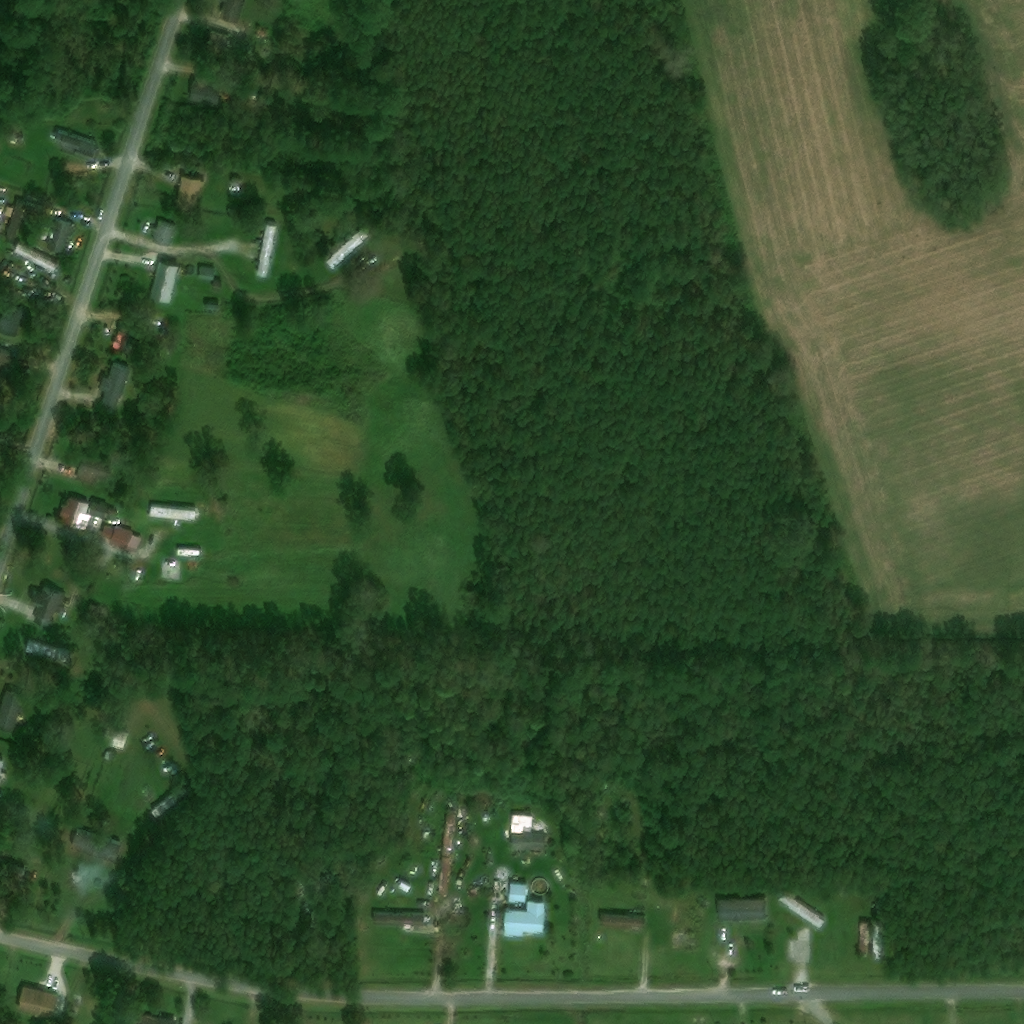no_damage: (58, 499, 119, 532), (324, 227, 370, 270), (776, 890, 826, 929), (99, 362, 132, 411), (52, 129, 100, 161), (500, 901, 545, 935), (27, 587, 65, 625), (13, 243, 57, 274), (14, 985, 55, 1016), (255, 224, 278, 277), (148, 260, 177, 302), (715, 898, 767, 921), (1, 861, 25, 910), (99, 526, 140, 554), (68, 837, 113, 862), (77, 453, 110, 485), (3, 200, 26, 245), (1, 688, 23, 732), (46, 219, 73, 253), (187, 79, 221, 105), (370, 911, 427, 926), (598, 912, 646, 929), (21, 642, 68, 659), (176, 176, 206, 202), (197, 32, 230, 55), (1, 303, 23, 337), (147, 506, 197, 520), (508, 832, 545, 850), (152, 222, 176, 248), (217, 0, 244, 23), (100, 726, 126, 749), (132, 1011, 177, 1023), (1, 350, 16, 384), (167, 143, 194, 160), (509, 815, 532, 833), (860, 922, 870, 957), (508, 884, 527, 902), (110, 330, 125, 350), (34, 223, 50, 241), (196, 267, 216, 281), (203, 302, 217, 311), (212, 282, 223, 292), (229, 178, 241, 187)
